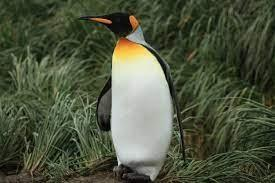king: (72, 9, 191, 183)
